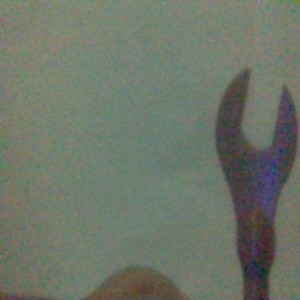spanner: (214, 68, 297, 300)
